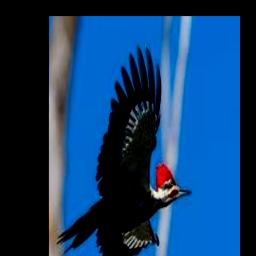Woodpecker: (56, 43, 191, 256)
